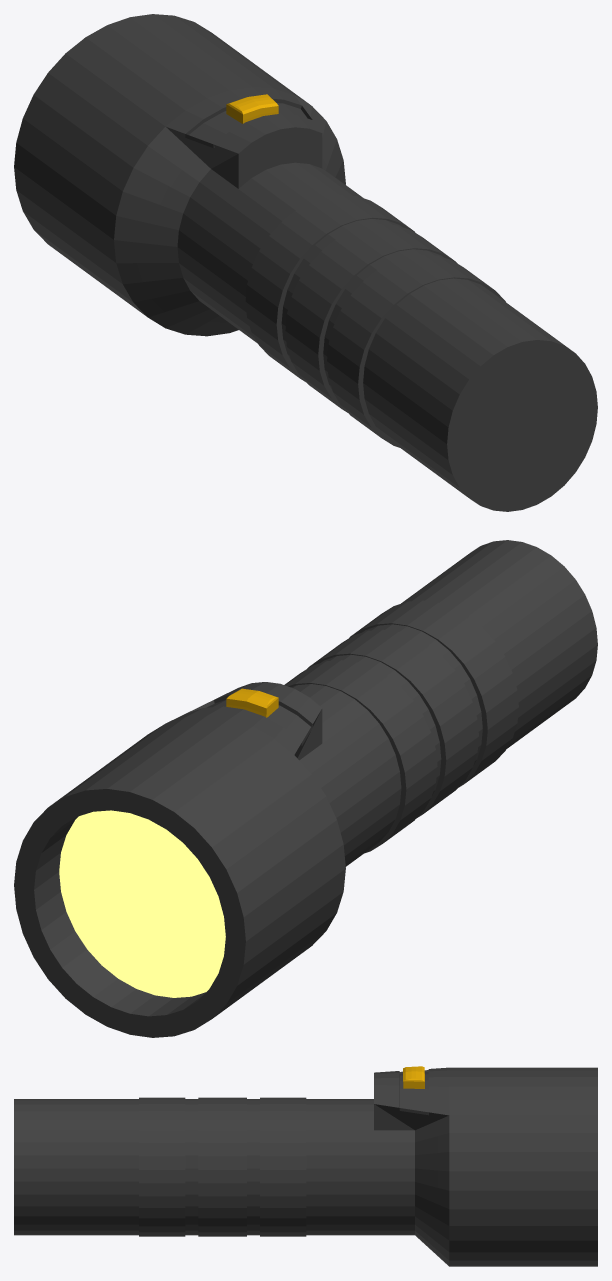
The model's file is Flashlight.fbx.
3 renders of one model, top to bottom at view 1: azimuth 30°, elevation 25°; view 2: azimuth 150°, elevation 25°; view 3: azimuth 270°, elevation 25°, orthographic. The views are drawn at different scales.
Parts seen in each view (by area): view 1: Cylinder, Cylinder.002; view 2: Cylinder, Cylinder.001, Cylinder.002; view 3: Cylinder, Cylinder.002.
Boxes of the visible parts, bbox=[...] form: Cylinder: bbox=[14, 14, 597, 511]; Cylinder.002: bbox=[226, 94, 278, 123]; Cylinder: bbox=[14, 540, 597, 1037]; Cylinder.001: bbox=[59, 810, 225, 997]; Cylinder.002: bbox=[226, 688, 278, 717]; Cylinder: bbox=[14, 1067, 597, 1266]; Cylinder.002: bbox=[403, 1066, 424, 1088].
Size of the model in its own units: 3.4 by 9.97 by 3.5.
